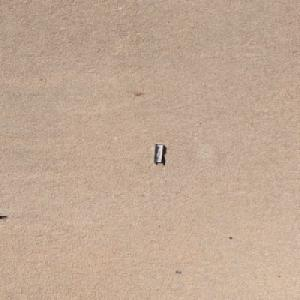ClampPart: (152, 142, 164, 162)
